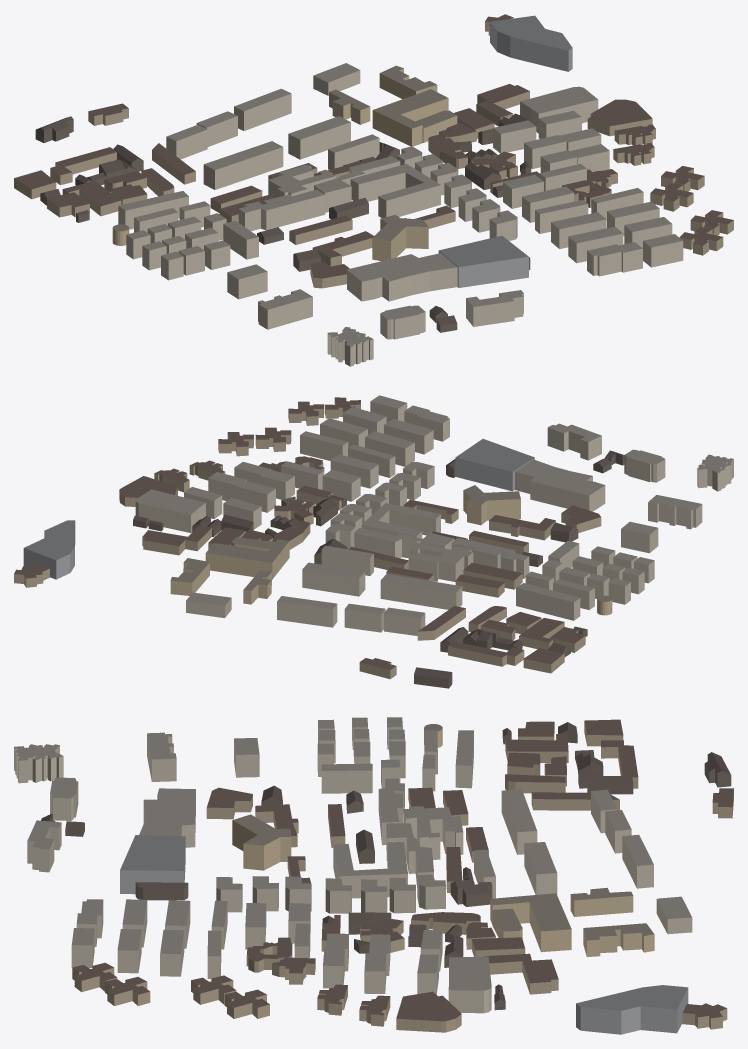
Rendered from tile_7_4.glb.
3 views of the same model, one above another, from view 1: azimuth 30°, elevation 25°; view 2: azimuth 150°, elevation 25°; view 3: azimuth 270°, elevation 25° (orthographic). The views are drawn at different scales.
Parts seen in each view (by area): view 1: HP-w766414486, HP-w859488855, HP-w1515071140, HP-w300651710, HP-w1512914150, HP-w1515071141, HP-w1286955527, HP-w987283664, HP-w1515071099, HP-w1286955526, HP-w1515071139, HP-w1435559500 (+66 smaller); view 2: HP-w1515071140, HP-w300651710, HP-w1515071139, HP-w1286955527, HP-w859488855, HP-w1515071099, HP-w766414486, HP-w1512914147, HP-w987283664, HP-w1512914151, HP-w1286955526, HP-w729793439 (+67 smaller); view 3: HP-w859488855, HP-w1515071140, HP-w300651710, HP-w987283664, HP-w1515071099, HP-w1512914147, HP-w766414486, HP-w300651849, HP-w1435559499, HP-w1286955527, HP-w1515071115, HP-w987283669 (+75 smaller).
Part boxes in pixels (x1,y1,x2,y2): HP-w766414486: [350, 164, 440, 217]; HP-w859488855: [490, 15, 572, 71]; HP-w1515071140: [438, 235, 528, 287]; HP-w300651710: [372, 89, 448, 146]; HP-w1512914150: [238, 189, 325, 231]; HP-w1515071141: [382, 253, 457, 301]; HP-w1286955527: [203, 141, 283, 189]; HP-w987283664: [372, 214, 428, 261]; HP-w1515071099: [520, 86, 598, 133]; HP-w1286955526: [288, 116, 350, 159]; HP-w1515071139: [347, 254, 423, 301]; HP-w1435559500: [466, 290, 523, 326]; HP-w1515071140: [455, 439, 534, 491]; HP-w300651710: [205, 539, 289, 579]; HP-w1515071139: [530, 474, 605, 511]; HP-w1286955527: [380, 574, 462, 609]; HP-w859488855: [23, 520, 75, 579]; HP-w1515071099: [135, 489, 205, 532]; HP-w766414486: [361, 503, 440, 538]; HP-w1512914147: [408, 542, 473, 581]; HP-w987283664: [463, 485, 520, 525]; HP-w1512914151: [354, 528, 454, 558]; HP-w1286955526: [302, 562, 365, 596]; HP-w729793439: [516, 583, 580, 620]; HP-w859488855: [576, 985, 688, 1034]; HP-w1515071140: [120, 835, 185, 894]; HP-w300651710: [490, 893, 571, 952]; HP-w987283664: [232, 814, 291, 870]; HP-w1515071099: [448, 956, 491, 1013]; HP-w1512914147: [403, 806, 463, 859]; HP-w766414486: [333, 842, 407, 898]; HP-w300651849: [583, 923, 654, 956]; HP-w1435559499: [14, 744, 63, 783]; HP-w1286955527: [501, 789, 537, 854]; HP-w1515071115: [396, 991, 461, 1032]; HP-w987283669: [321, 763, 372, 793].
Bounding box in the file's own units: 519 × 19.8 × 520.
